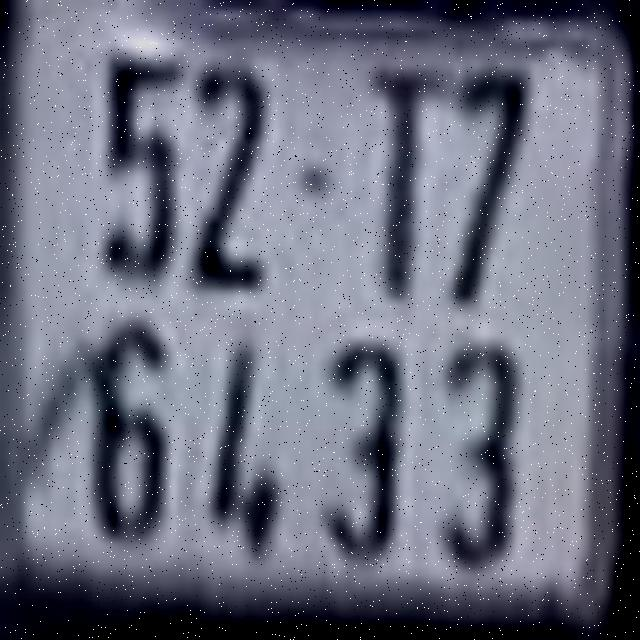2: (194, 59, 268, 291)
3: (323, 335, 402, 562), (442, 340, 518, 570)
4: (210, 335, 281, 562)
5: (102, 48, 182, 280)
6: (91, 319, 171, 546)
7: (453, 66, 530, 304)
T: (367, 59, 447, 303)
